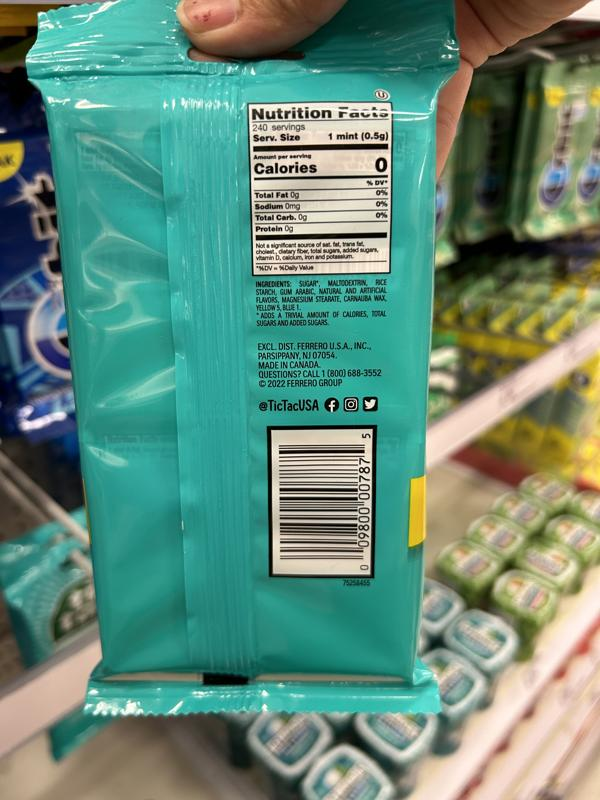ingredients: (254, 278, 388, 312)
